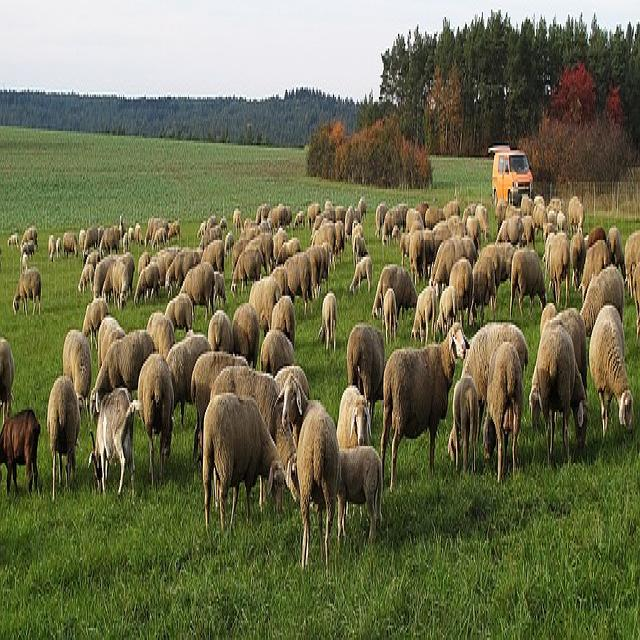sheep: (380, 320, 470, 492), (201, 390, 284, 536), (528, 322, 588, 466), (461, 320, 528, 441), (588, 303, 634, 439), (130, 352, 174, 488), (483, 340, 523, 482), (87, 385, 135, 497), (336, 444, 382, 546), (46, 373, 80, 502), (346, 322, 385, 424), (0, 407, 40, 495), (447, 373, 478, 473), (509, 247, 546, 318), (62, 327, 91, 415), (410, 284, 437, 344), (12, 267, 41, 315), (0, 337, 14, 424), (317, 291, 337, 351), (348, 252, 372, 296), (7, 233, 18, 247)
